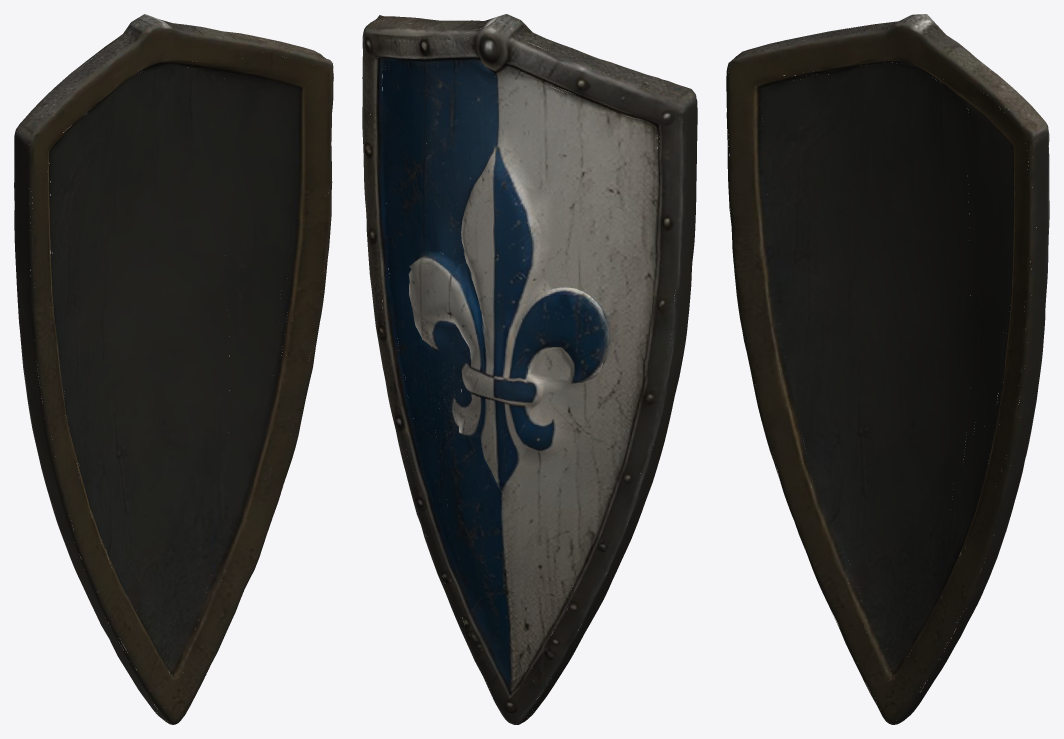
Rendered from kite_fleur.glb.
3 renders of one model, left to right at view 1: azimuth 30°, elevation 25°; view 2: azimuth 150°, elevation 25°; view 3: azimuth 330°, elevation 25°, orthographic. The views are drawn at different scales.
Visible parts, largest first — view 1: kite_fleur; view 2: kite_fleur; view 3: kite_fleur.
Part boxes in pixels (left/top/right/bottom): kite_fleur: left=14, top=14, right=333, bottom=724; kite_fleur: left=362, top=14, right=697, bottom=724; kite_fleur: left=726, top=14, right=1049, bottom=724.
Bounding box in the file's own units: 0.3926 × 0.8405 × 0.1053.
1 material, 1 textured.
